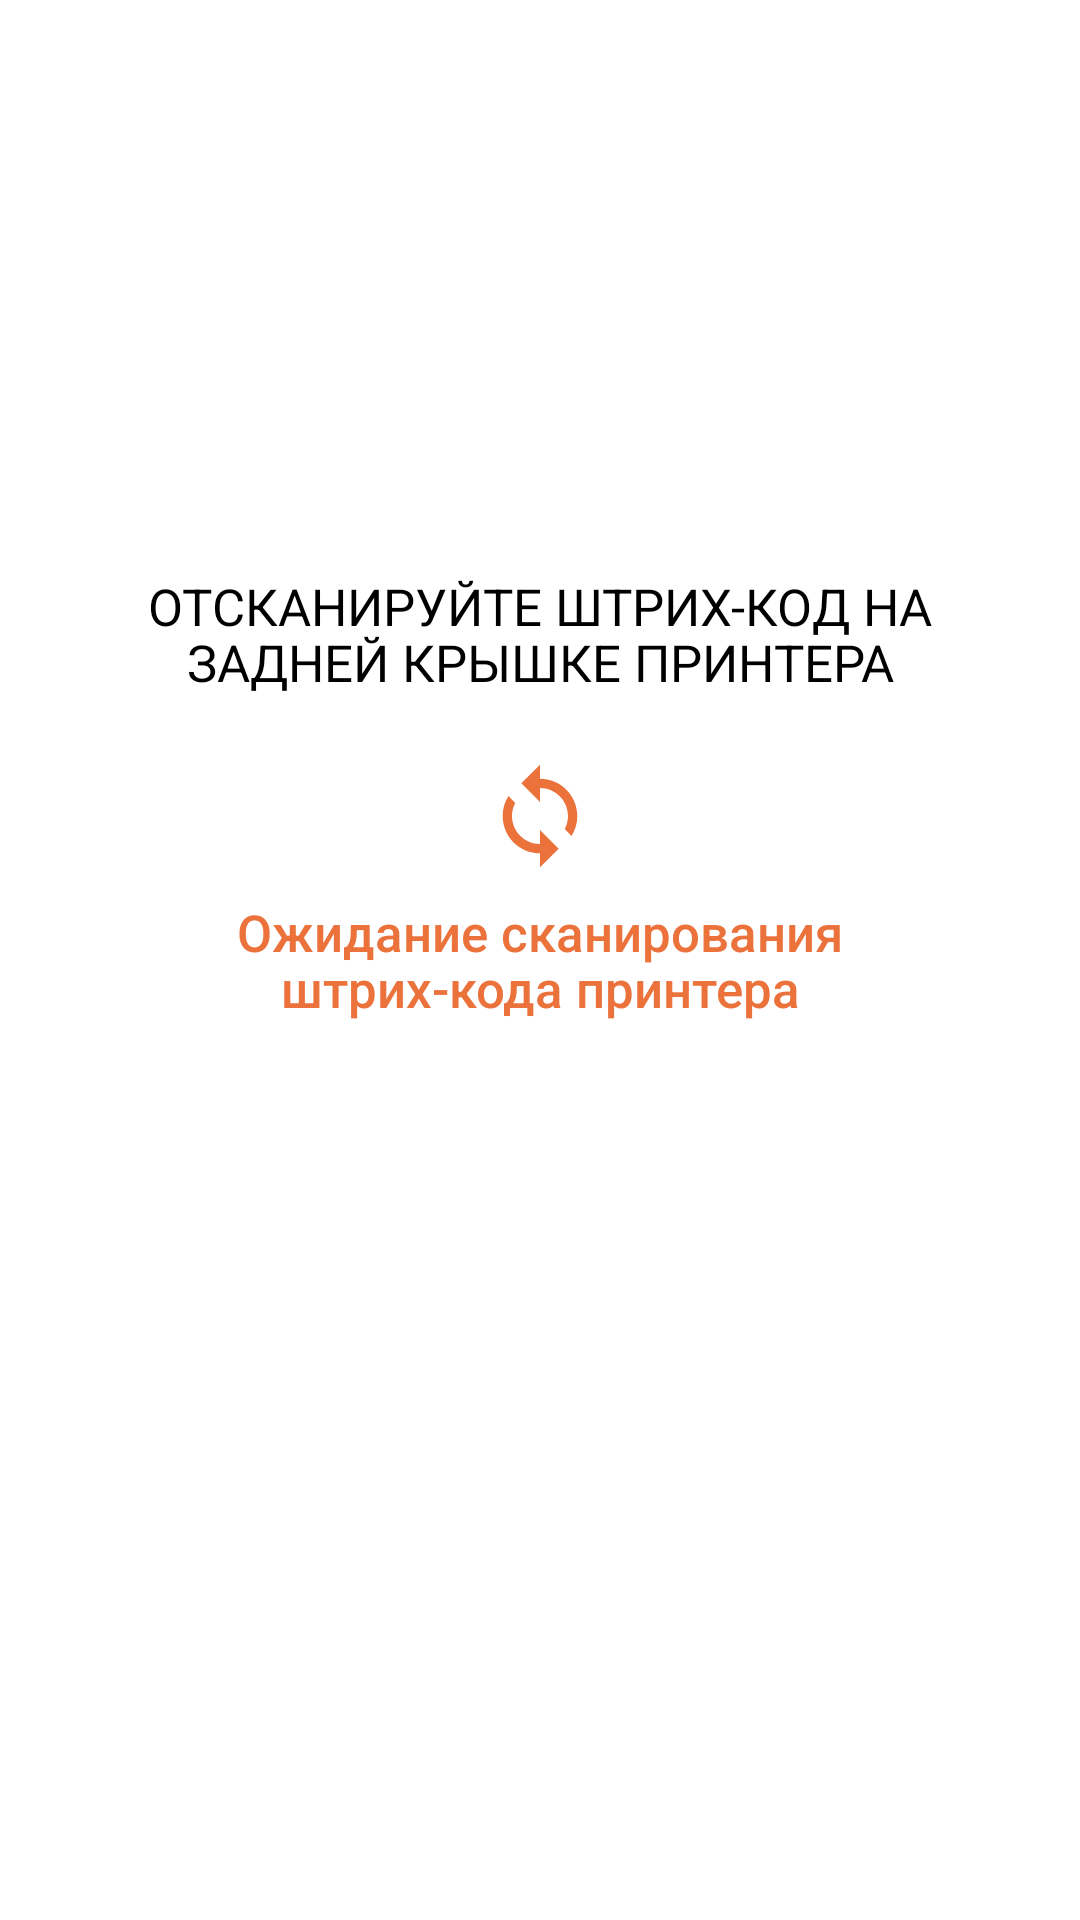

Icons on this 1080 × 1920 Android screen, each with its box as {"x1": x1, "y1": y1, "x2": x2, "y2": y2}:
sync: {"x1": 502, "y1": 765, "x2": 578, "y2": 867}
